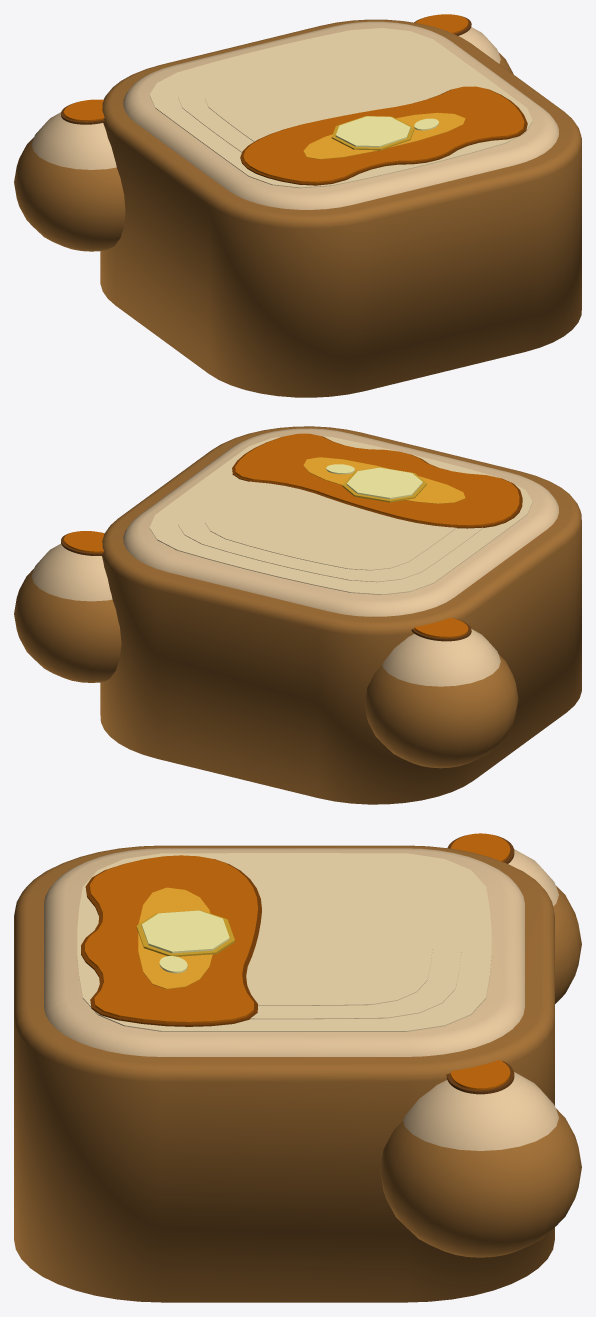
The model's file is body_estampa_panqueca.fbx.
3 renders of one model, top to bottom at view 1: azimuth 30°, elevation 25°; view 2: azimuth 150°, elevation 25°; view 3: azimuth 270°, elevation 25°, orthographic. The views are drawn at different scales.
Parts seen in each view (by area): view 1: body_estampa_panqueca_corpo, body_estampa_panqueca_mao_esq, body_estampa_panqueca_mao; view 2: body_estampa_panqueca_corpo, body_estampa_panqueca_mao_esq, body_estampa_panqueca_mao; view 3: body_estampa_panqueca_corpo, body_estampa_panqueca_mao, body_estampa_panqueca_mao_esq.
Boxes of the visible parts, <box> form: body_estampa_panqueca_corpo: <box>100,19,581,397</box>; body_estampa_panqueca_mao_esq: <box>14,99,125,251</box>; body_estampa_panqueca_mao: <box>414,14,513,74</box>; body_estampa_panqueca_corpo: <box>100,426,581,804</box>; body_estampa_panqueca_mao_esq: <box>364,617,518,768</box>; body_estampa_panqueca_mao: <box>14,531,121,682</box>; body_estampa_panqueca_corpo: <box>14,845,554,1302</box>; body_estampa_panqueca_mao: <box>380,1060,581,1257</box>; body_estampa_panqueca_mao_esq: <box>447,833,581,1003</box>.
Size of the model in its own units: 5.4 by 2.07 by 4.2.
Materials: 1 (1 with a texture image).
